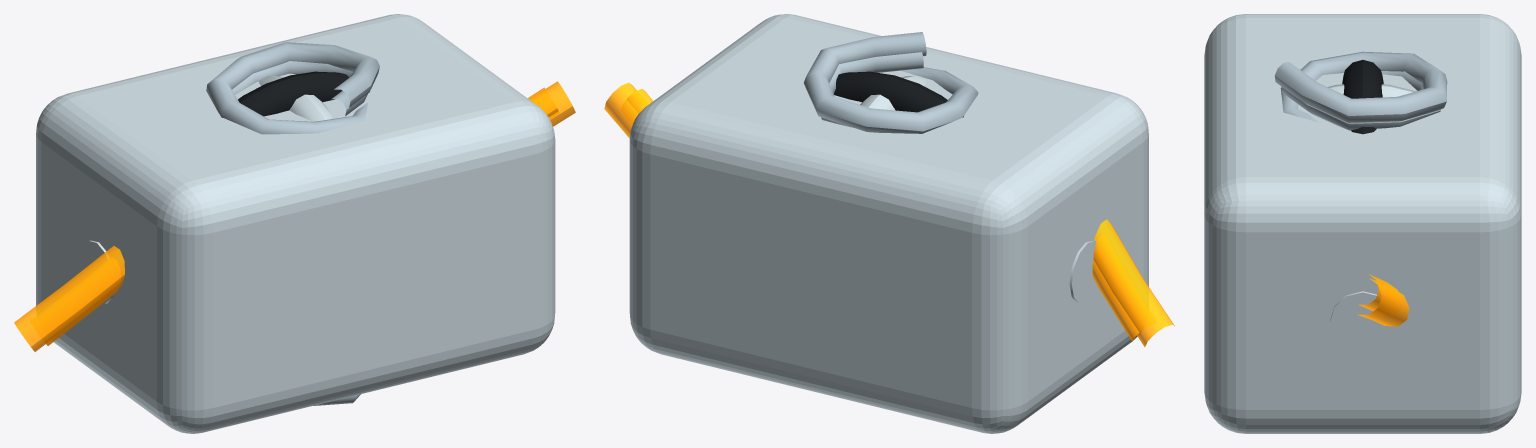
The model's file is remaining_systems_17.glb.
3 renders of one model, left to right at view 1: azimuth 30°, elevation 25°; view 2: azimuth 150°, elevation 25°; view 3: azimuth 270°, elevation 25°, orthographic.
Visible parts, largest first — view 1: asset_mesh__remaining_systems_1448__reference_body, asset_mesh__remaining_systems_1452__coil_spring, asset_mesh__remaining_systems_1493__fluid_path, asset_mesh__remaining_systems_1492__service_element, asset_mesh__remaining_systems_1451__coil_spring, asset_mesh__remaining_systems_1491__functional_ring, asset_mesh__remaining_systems_1501__fluid_path; view 2: asset_mesh__remaining_systems_1448__reference_body, asset_mesh__remaining_systems_1452__coil_spring, asset_mesh__remaining_systems_1493__fluid_path, asset_mesh__remaining_systems_1492__service_element, asset_mesh__remaining_systems_1451__coil_spring, asset_mesh__remaining_systems_1483__assembly_axis, asset_mesh__remaining_systems_1501__fluid_path; view 3: asset_mesh__remaining_systems_1448__reference_body, asset_mesh__remaining_systems_1452__coil_spring, asset_mesh__remaining_systems_1483__assembly_axis, asset_mesh__remaining_systems_1492__service_element, asset_mesh__remaining_systems_1451__coil_spring, asset_mesh__remaining_systems_1493__fluid_path, asset_mesh__remaining_systems_1491__functional_ring.
Boxes of the visible parts, left/top/right/bottom form: asset_mesh__remaining_systems_1448__reference_body: left=36, top=14, right=555, bottom=433; asset_mesh__remaining_systems_1452__coil_spring: left=206, top=42, right=379, bottom=405; asset_mesh__remaining_systems_1493__fluid_path: left=14, top=81, right=575, bottom=351; asset_mesh__remaining_systems_1492__service_element: left=221, top=71, right=349, bottom=117; asset_mesh__remaining_systems_1451__coil_spring: left=232, top=61, right=367, bottom=116; asset_mesh__remaining_systems_1491__functional_ring: left=259, top=75, right=332, bottom=121; asset_mesh__remaining_systems_1501__fluid_path: left=46, top=87, right=558, bottom=345; asset_mesh__remaining_systems_1448__reference_body: left=629, top=14, right=1148, bottom=433; asset_mesh__remaining_systems_1452__coil_spring: left=804, top=32, right=978, bottom=133; asset_mesh__remaining_systems_1493__fluid_path: left=604, top=82, right=1174, bottom=346; asset_mesh__remaining_systems_1492__service_element: left=833, top=71, right=963, bottom=117; asset_mesh__remaining_systems_1451__coil_spring: left=821, top=52, right=923, bottom=127; asset_mesh__remaining_systems_1483__assembly_axis: left=1069, top=240, right=1097, bottom=303; asset_mesh__remaining_systems_1501__fluid_path: left=626, top=89, right=1139, bottom=341; asset_mesh__remaining_systems_1448__reference_body: left=1204, top=14, right=1521, bottom=433; asset_mesh__remaining_systems_1452__coil_spring: left=1274, top=51, right=1447, bottom=123; asset_mesh__remaining_systems_1483__assembly_axis: left=1330, top=291, right=1394, bottom=351; asset_mesh__remaining_systems_1492__service_element: left=1342, top=60, right=1383, bottom=134; asset_mesh__remaining_systems_1451__coil_spring: left=1281, top=71, right=1440, bottom=130; asset_mesh__remaining_systems_1493__fluid_path: left=1357, top=278, right=1409, bottom=326; asset_mesh__remaining_systems_1491__functional_ring: left=1327, top=84, right=1415, bottom=97.
Size of the model in its own units: 1.73 by 0.9586 by 0.84.
